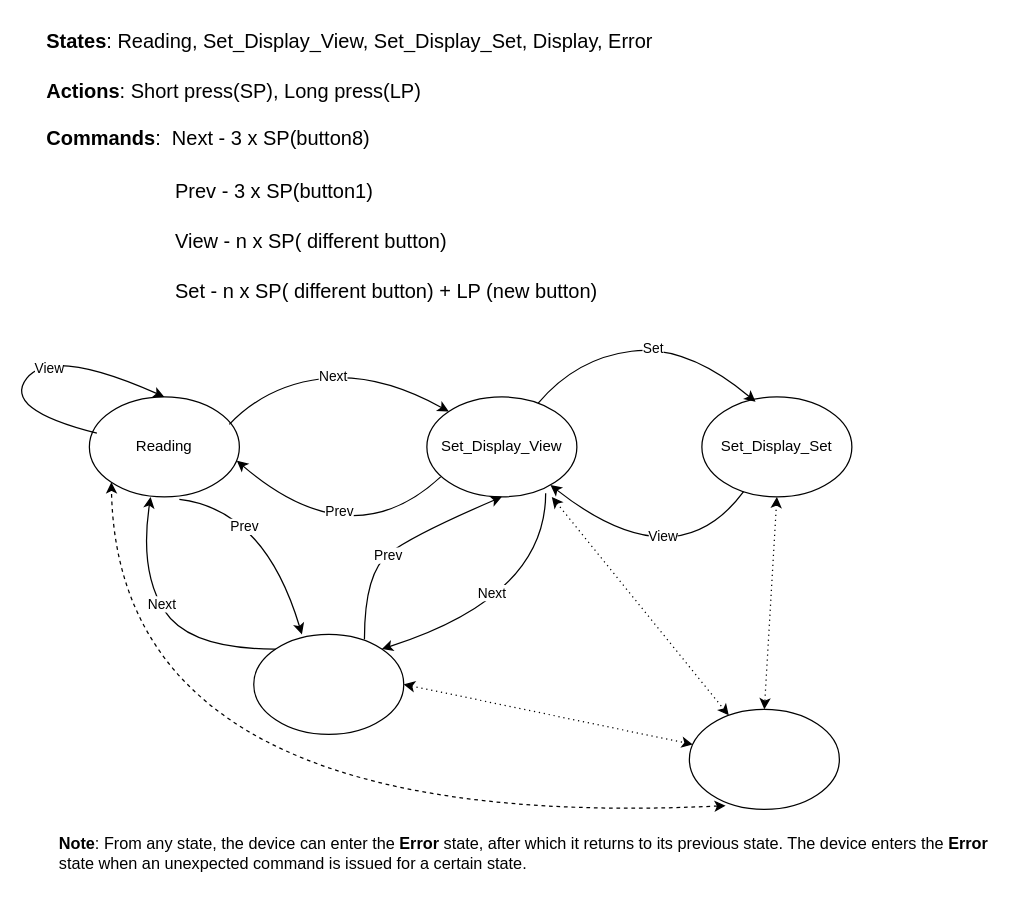
Image size: 1024x905. Some labels were removed from this diagram. Here are the shapes that lost their labels. From the top down, the centre of each, then its label:
At (x=328, y=683): "Display".
At (x=763, y=758): "Error".
